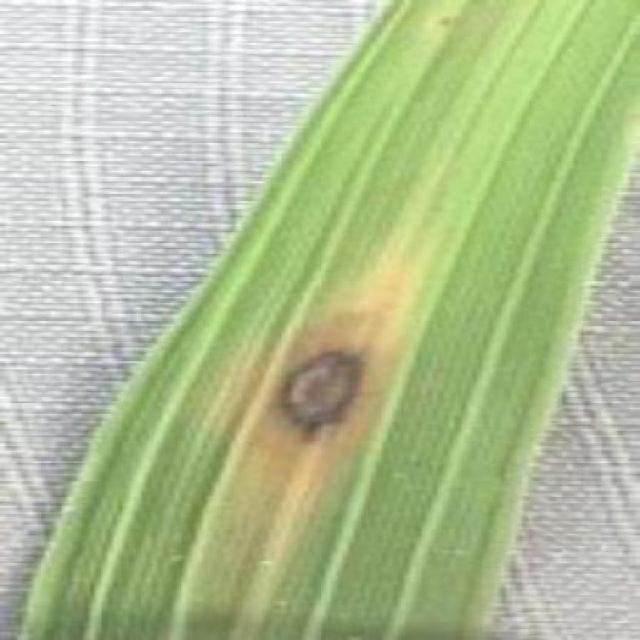Bacterial_Leaf_Blight: (254, 328, 392, 460)
Leaf_Blast: (292, 609, 388, 640), (428, 3, 462, 34)
